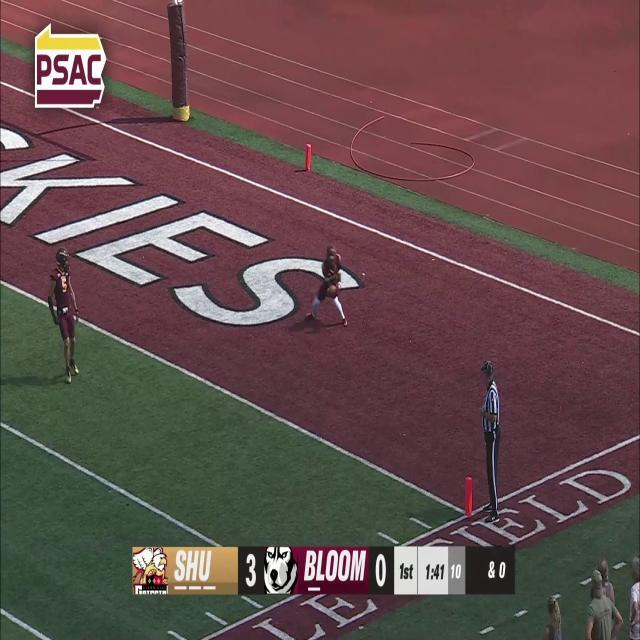football: (326, 284, 336, 297)
